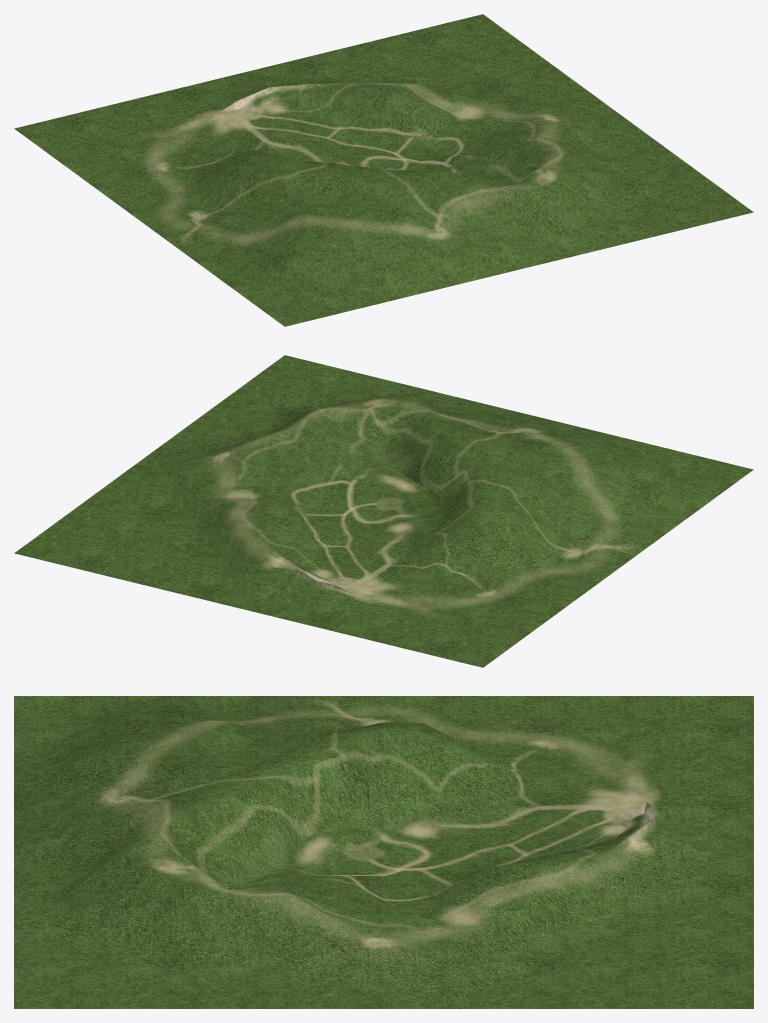
The model's file is map_0420.fbx.
The picture shows the model from 3 angles, top to bottom: view 1: azimuth 30°, elevation 25°; view 2: azimuth 150°, elevation 25°; view 3: azimuth 270°, elevation 25°; orthographic projection. The views are drawn at different scales.
Parts seen in each view (by area): view 1: map1; view 2: map1; view 3: map1.
Boxes of the visible parts, x1,y1,x2,y2 form: map1: (14, 14, 753, 326); map1: (14, 355, 753, 667); map1: (14, 696, 753, 1008).
Size of the model in its own units: 68426 by 5561 by 68419.
